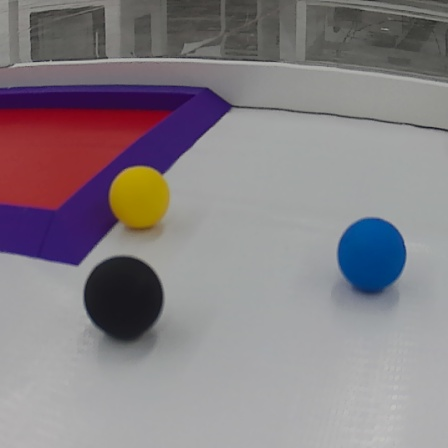black: (81, 253, 164, 345)
blue: (336, 216, 412, 299)
red_aim: (1, 72, 234, 265)
yellow: (108, 163, 172, 236)
